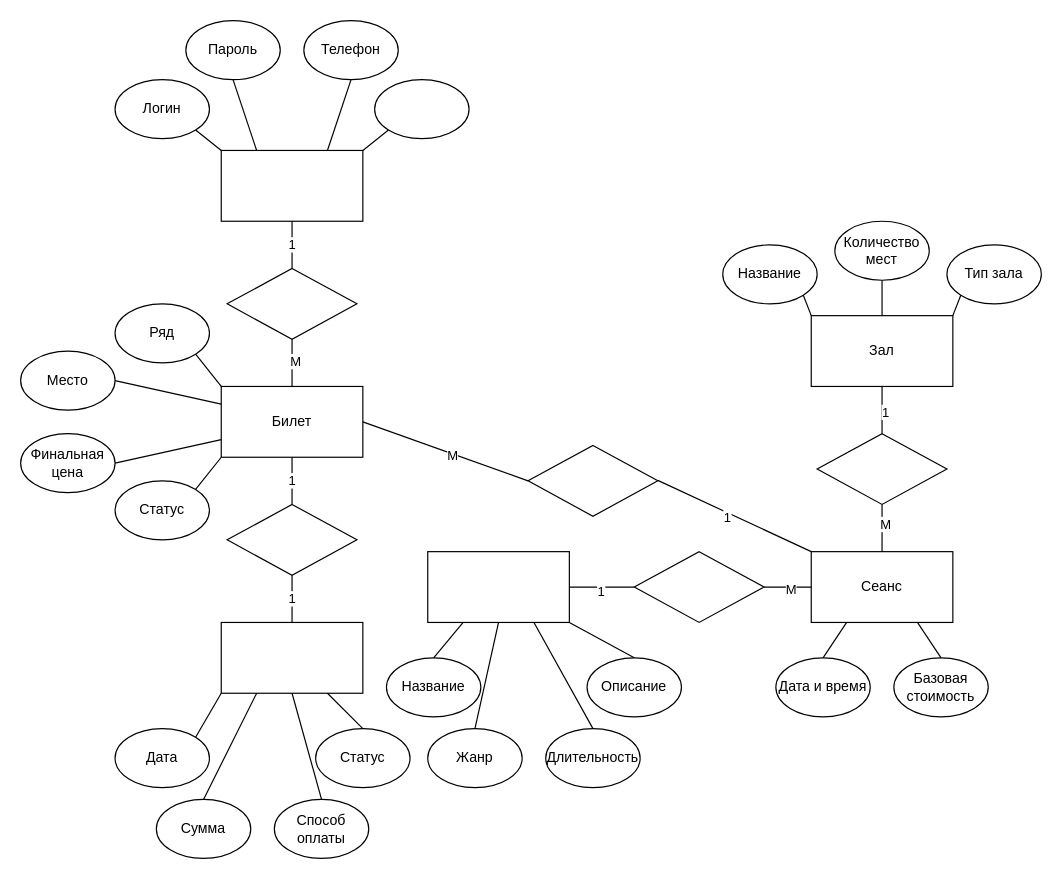
Some shapes in this 1062 by 879 pixel diagram are drawn without their labels. The shapes that lost their labels are listed below. From the top down, each one's box as (x1, y1, x2, y2) in pixels, then its label:
(373, 78, 469, 139): Почта
(220, 149, 363, 221): Пользователь
(226, 267, 357, 339): Покупает
(527, 444, 658, 516): Действителен на
(816, 432, 947, 504): Проходит в
(226, 503, 357, 575): Подтверждается
(427, 550, 569, 622): Фильм
(633, 550, 764, 622): Показывает
(220, 621, 363, 693): Оплата
